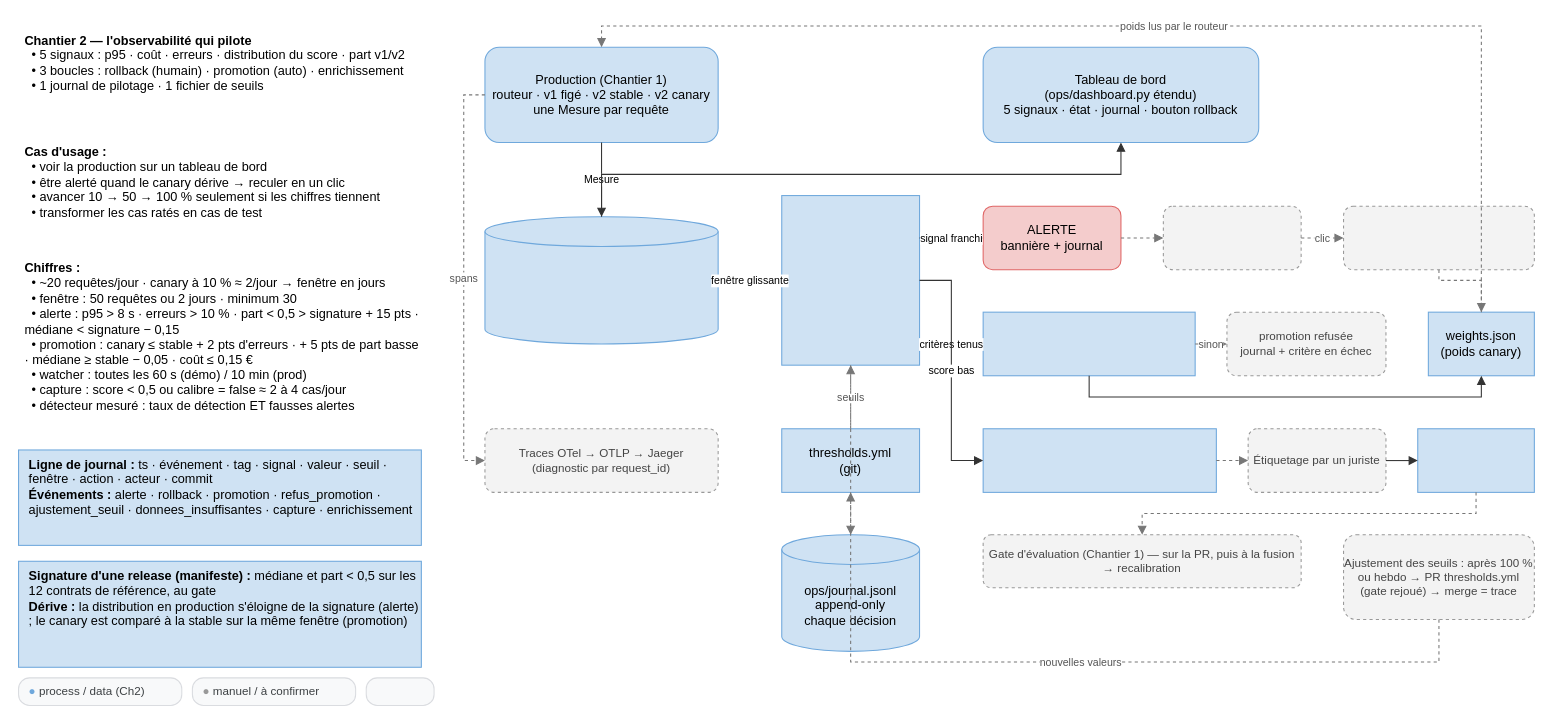
The diagram is 1553 pixels wide and 724 high, and some of its shapes have lost their labels. Here are the shapes that lost their labels. From the top down, the centre of each, then its label:
At point (1231, 237): "Chef de projet un clic, nom saisi".
At point (1438, 237): "redeploy(previous_tag) → weights.json 100 % tag précédent".
At point (601, 280): "ops/metrics.jsonl latence · coût · erreur score · route · tag".
At point (850, 280): "Watcher (ops/watcher.py) fenêtre → 5 signaux → seuils → décision".
At point (1088, 343): "set_weight(palier suivant) 10 → 50 → 100 % — automatique".
At point (1099, 460): "Capture : score < 0,5 ou calibre = false → candidats.jsonl (masqué)".
At point (1475, 460): "attendus.jsonl version N+1 — commit".
At point (399, 691): "● alerte".
